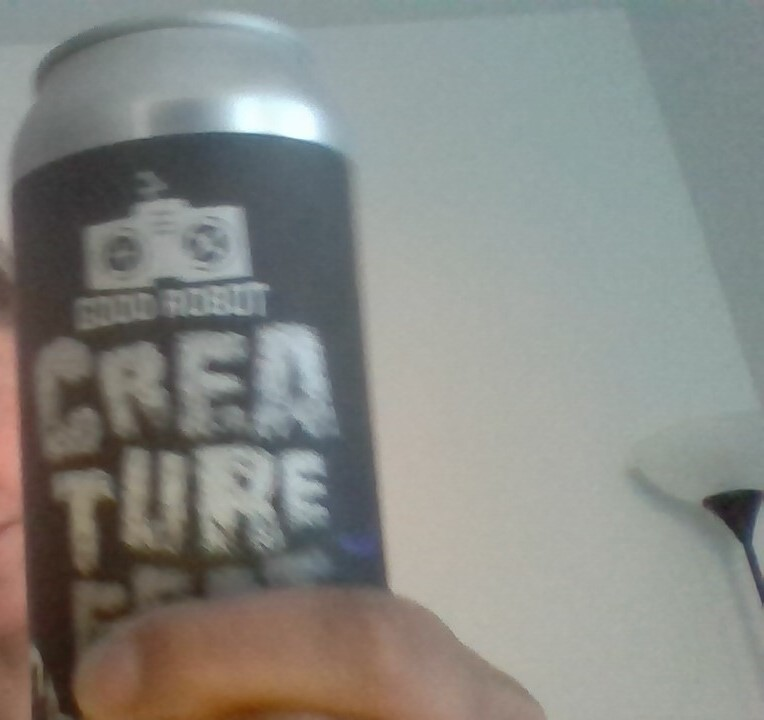Good Robot: (51, 165, 268, 287)
